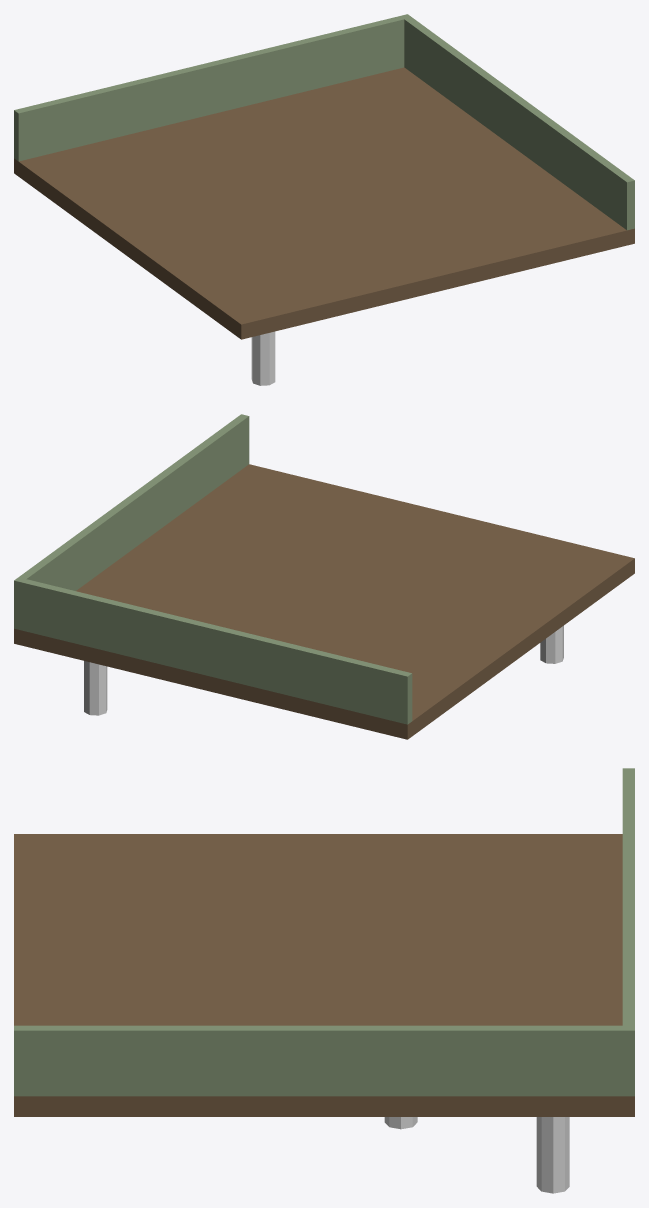
File: build_pier_platform_01.glb
3 renders of one model, top to bottom at view 1: azimuth 30°, elevation 25°; view 2: azimuth 150°, elevation 25°; view 3: azimuth 270°, elevation 25°, orthographic. The views are drawn at different scales.
Parts seen in each view (by area): view 1: build_pier_platform_01; view 2: build_pier_platform_01; view 3: build_pier_platform_01.
Boxes of the visible parts, box(x1,y1,x2,y2) form: build_pier_platform_01: box(14, 14, 634, 385); build_pier_platform_01: box(14, 414, 634, 739); build_pier_platform_01: box(14, 768, 634, 1193).
Size of the model in its own units: 6 by 2.03 by 6.
